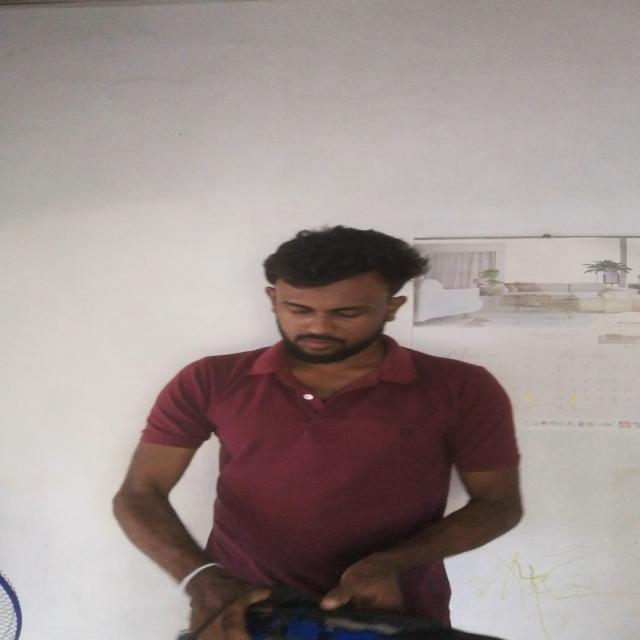Person: (102, 214, 526, 639)
